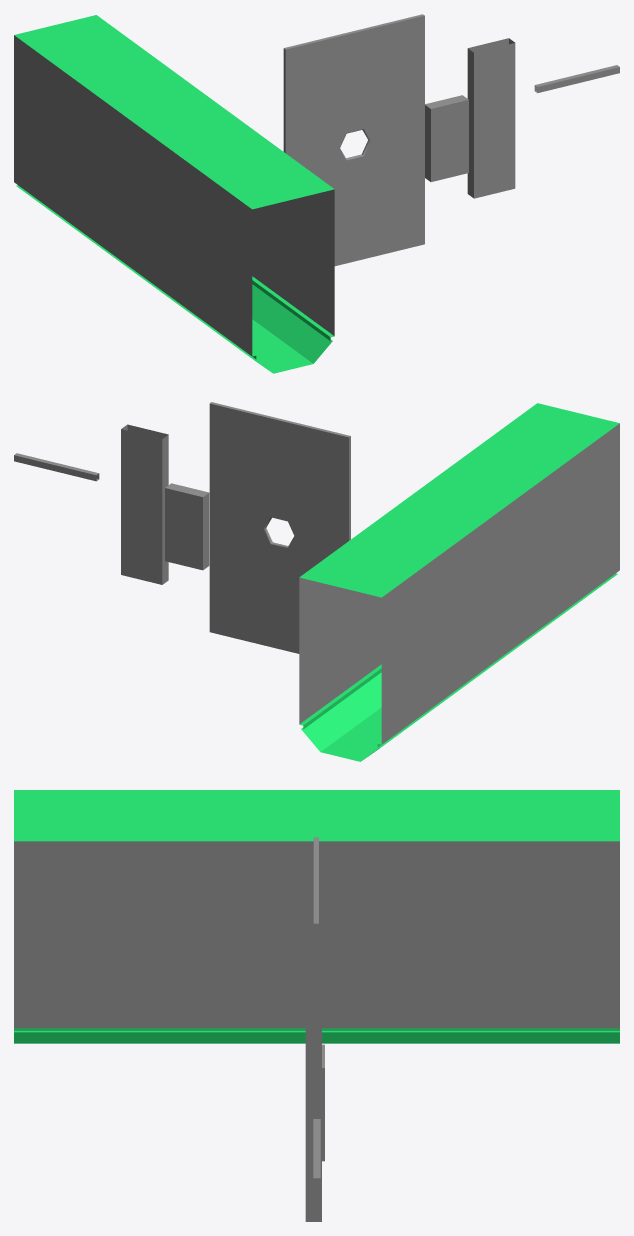
Rendered from Field2.FBX.
3 views of the same model, one above another, from view 1: azimuth 30°, elevation 25°; view 2: azimuth 150°, elevation 25°; view 3: azimuth 270°, elevation 25° (orthographic). The views are drawn at different scales.
Visible parts, largest first — view 1: WallsWorld_low, Holes_low, floor_low, Wall01, Wall02, Line_low; view 2: WallsWorld_low, Holes_low, floor_low, Wall01, Wall02, Line_low; view 3: WallsWorld_low, floor_low, Wall01, Holes_low.
Part boxes in pixels (bbox=[...]): WallsWorld_low: bbox=[14, 35, 334, 356]; Holes_low: bbox=[283, 14, 424, 266]; floor_low: bbox=[14, 15, 334, 373]; Wall01: bbox=[467, 38, 515, 198]; Wall02: bbox=[425, 95, 468, 181]; Line_low: bbox=[534, 65, 619, 93]; WallsWorld_low: bbox=[299, 423, 619, 744]; Holes_low: bbox=[209, 402, 350, 653]; floor_low: bbox=[299, 403, 619, 761]; Wall01: bbox=[121, 424, 168, 584]; Wall02: bbox=[165, 483, 209, 570]; Line_low: bbox=[14, 453, 99, 481]; WallsWorld_low: bbox=[14, 841, 619, 1028]; floor_low: bbox=[14, 790, 619, 1043]; Wall01: bbox=[305, 1011, 321, 1221]; Holes_low: bbox=[313, 837, 318, 1010].
Size of the model in its own units: 294 by 132 by 250.
